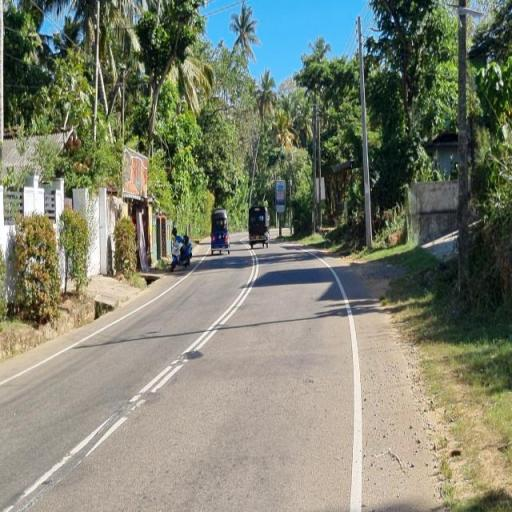double_white_line: (130, 247, 260, 407)
